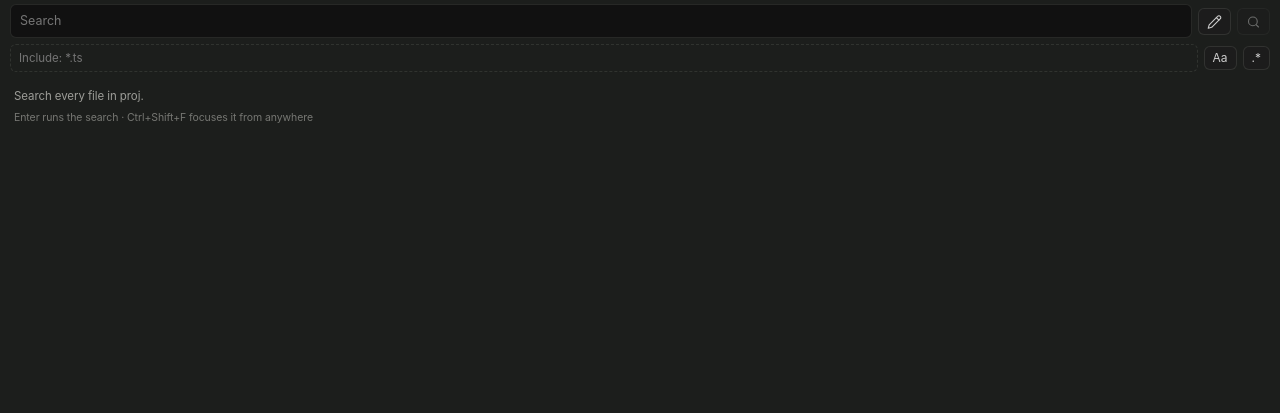
it: SearchPanel replace preview › a skipped line is reported, not hidden
Type "hello" into the field with test id "ws-search-query". click: [601, 21]
box: [10,4,1192,38]
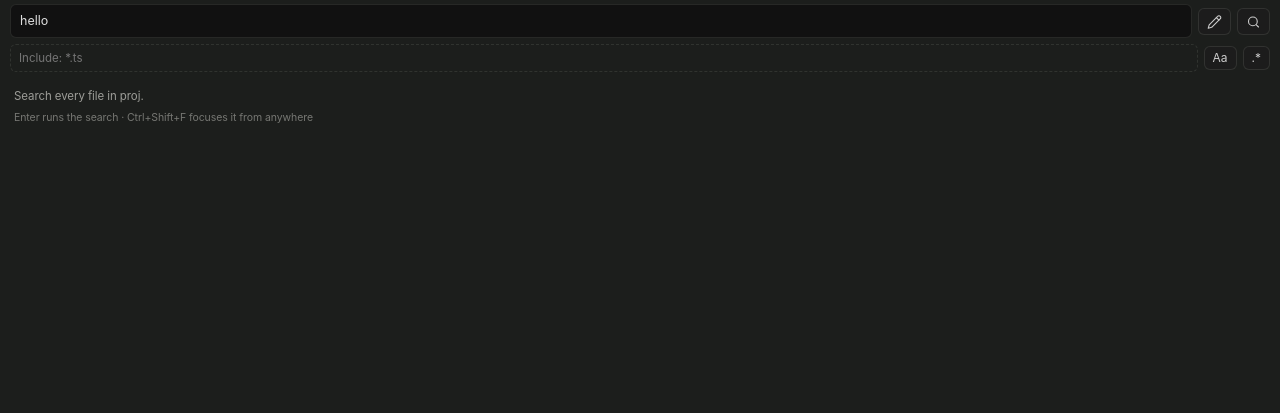
Click the button with test id "ws-search-run". click: [1254, 21]
box: [1237,8,1270,34]
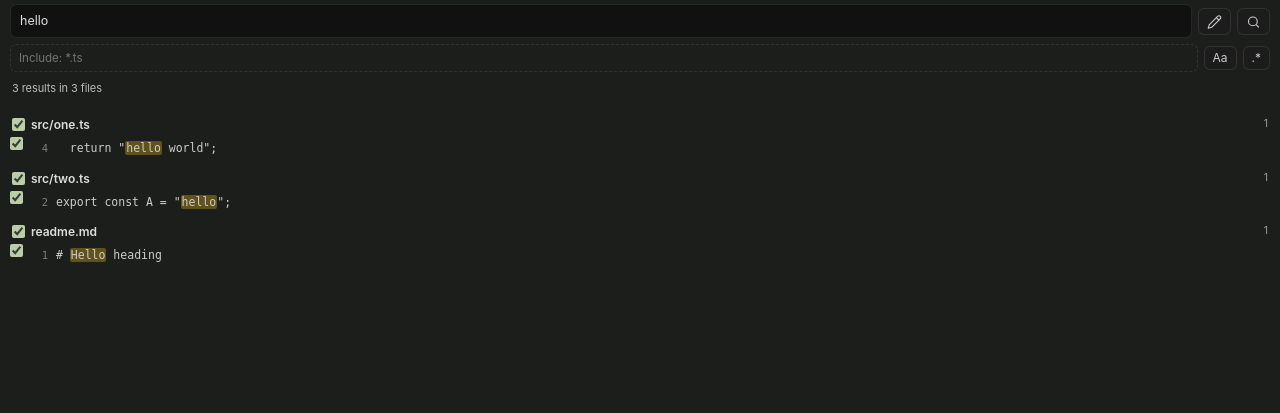
Click the button with test id "ws-search-replace-toggle". click: [1214, 21]
box: [1198,8,1231,34]
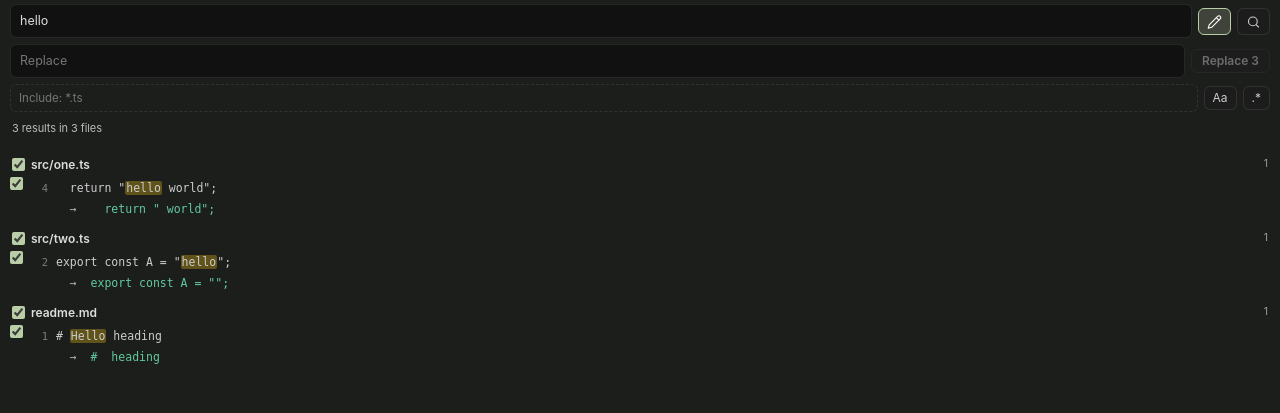
Type "goodbye" into the field with test id "ws-search-replacement". click: [598, 61]
box: [10,44,1185,78]
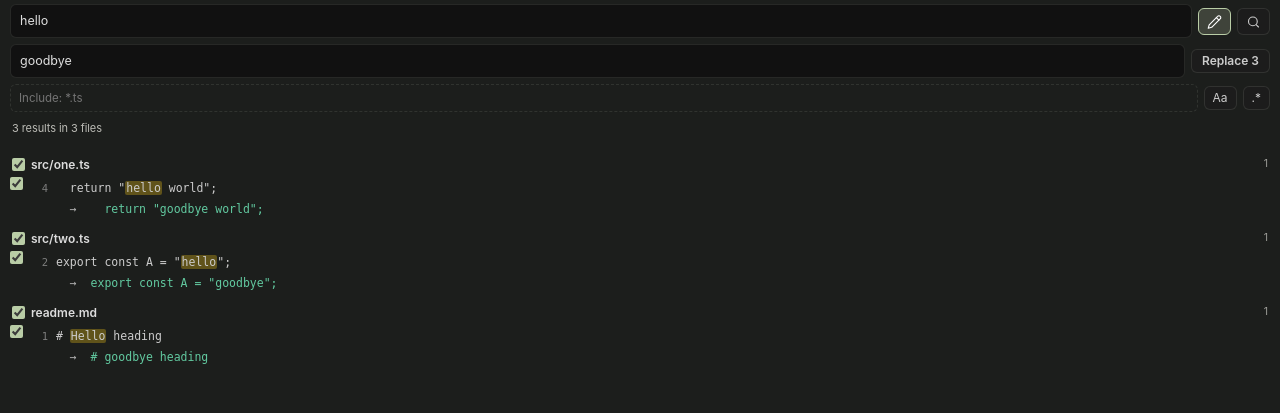
Click the button with test id "ws-search-replace-all". click: [1230, 61]
box: [1191,49,1270,73]
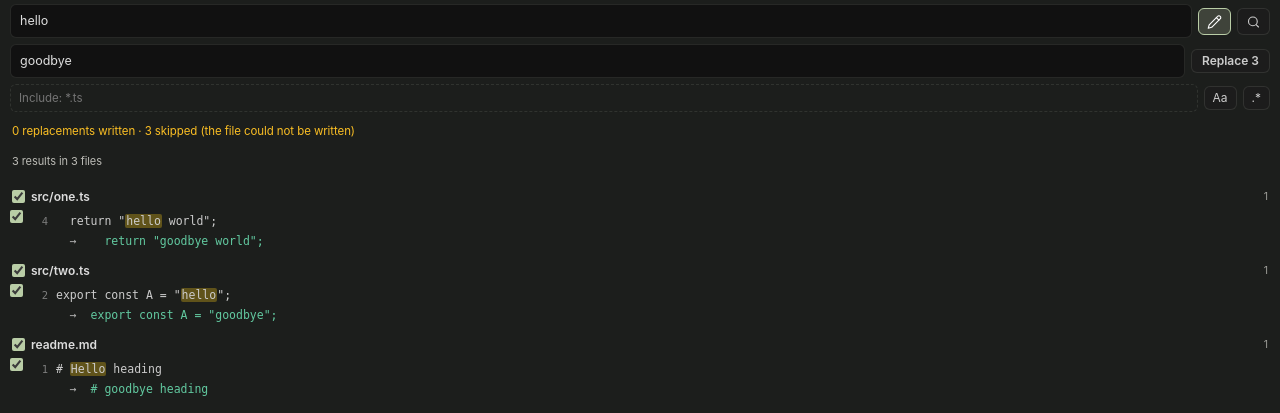
Check: the message with test id "ws-search-report" shows "skipped", box [12,124,355,138]
